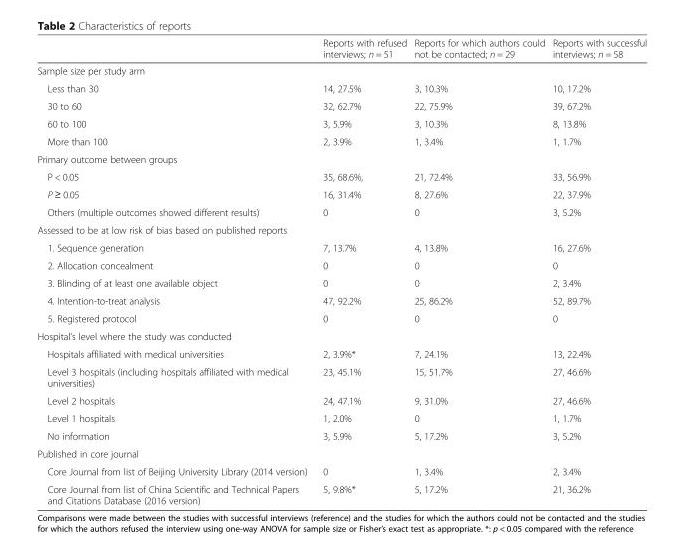table: (36, 36, 646, 505)
table column: (36, 36, 314, 505), (409, 36, 548, 505), (548, 36, 646, 505), (314, 36, 409, 505)
table column header: (36, 36, 646, 62)
table projected row header: (36, 220, 646, 238), (36, 444, 646, 462), (36, 62, 646, 79), (36, 150, 646, 167), (36, 327, 646, 344)
table row: (36, 362, 646, 391), (36, 36, 646, 62), (36, 479, 646, 505), (36, 96, 646, 114), (36, 114, 646, 132), (36, 132, 646, 150), (36, 167, 646, 185), (36, 185, 646, 203), (36, 220, 646, 238), (36, 238, 646, 256), (36, 273, 646, 291), (36, 291, 646, 309), (36, 309, 646, 327), (36, 344, 646, 362), (36, 391, 646, 409), (36, 426, 646, 444), (36, 444, 646, 462), (36, 62, 646, 79), (36, 79, 646, 96), (36, 150, 646, 167), (36, 203, 646, 220), (36, 256, 646, 273), (36, 327, 646, 344), (36, 409, 646, 426), (36, 462, 646, 479)
